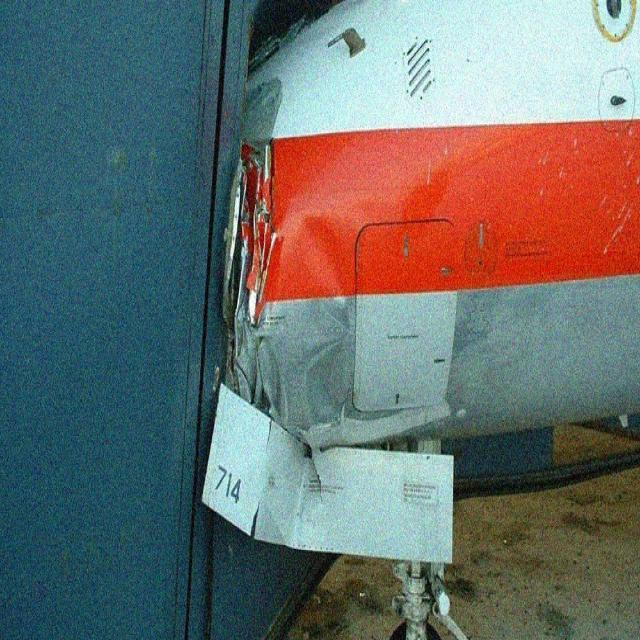dent: (302, 220, 353, 436)
